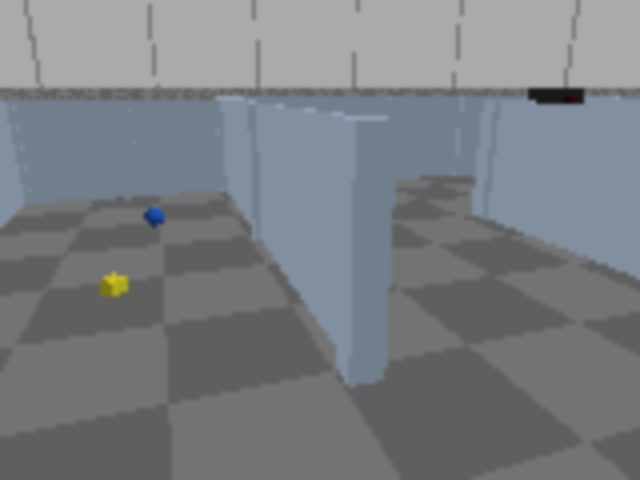puck: (99, 273, 129, 298), (140, 206, 168, 229)
